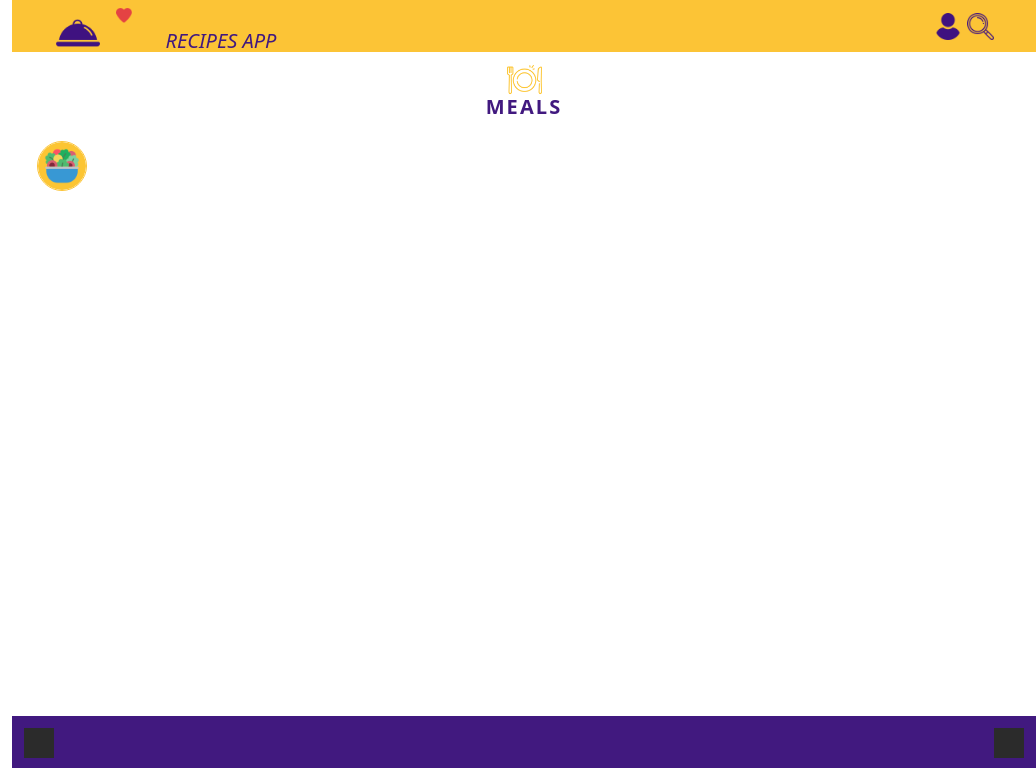
it: Testes relacionados ao SearchBar › Verifica se o botão não esta habilitado caso não preencha um dos campos
Click the button with test id "search-top-btn". click: x=981, y=26
box: [961,11,1000,40]
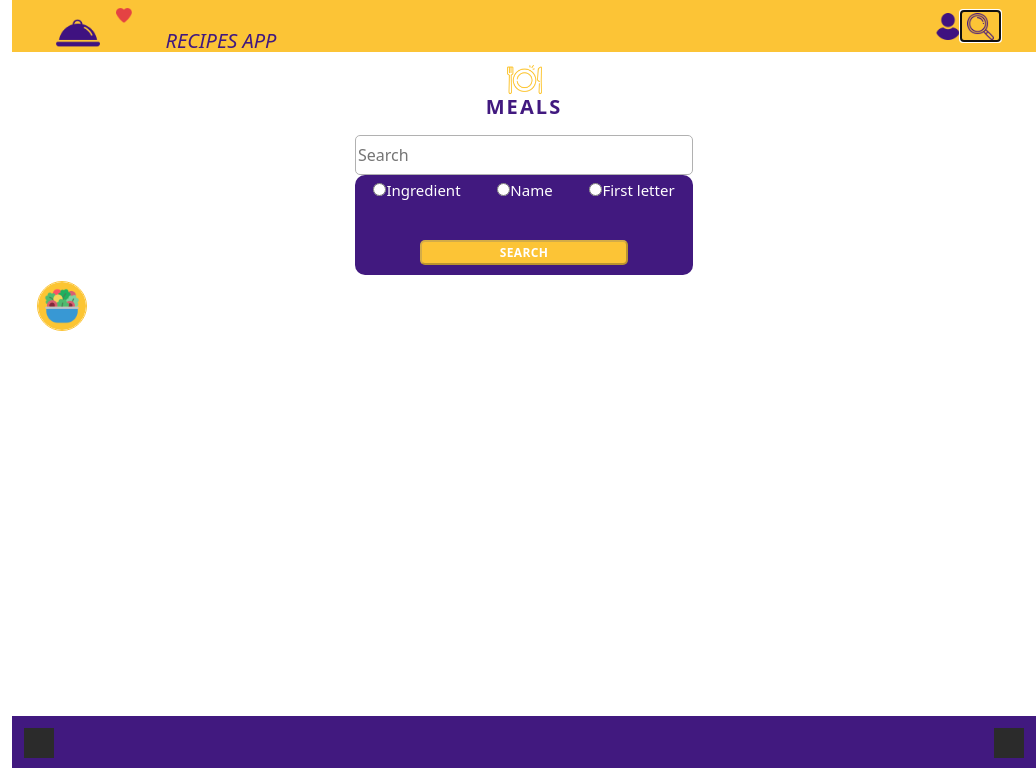
Expected: the button with test id "exec-search-btn" is disabled, [420,240,628,265]
Click the radio button with test id "first-letter-search-radio". click: x=596, y=190
box: [589,183,602,196]
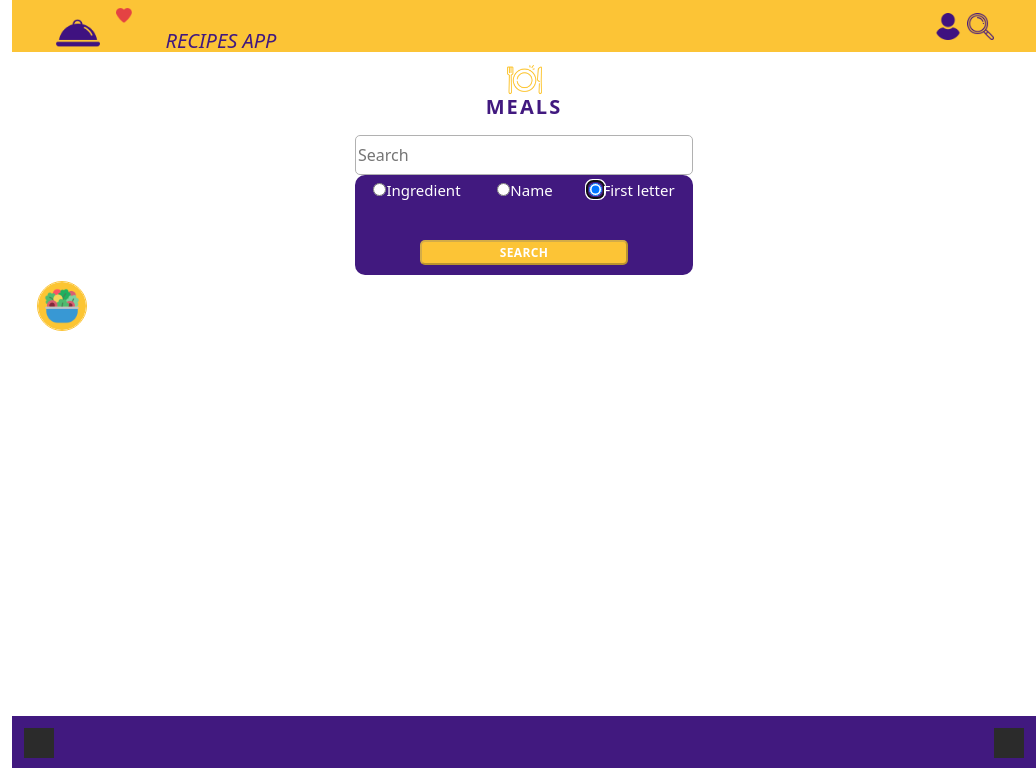
Expected: the button with test id "exec-search-btn" is disabled, [420,240,628,265]
Type "a" into the field with test id "search-input". click: x=524, y=155
box: [355,135,693,175]
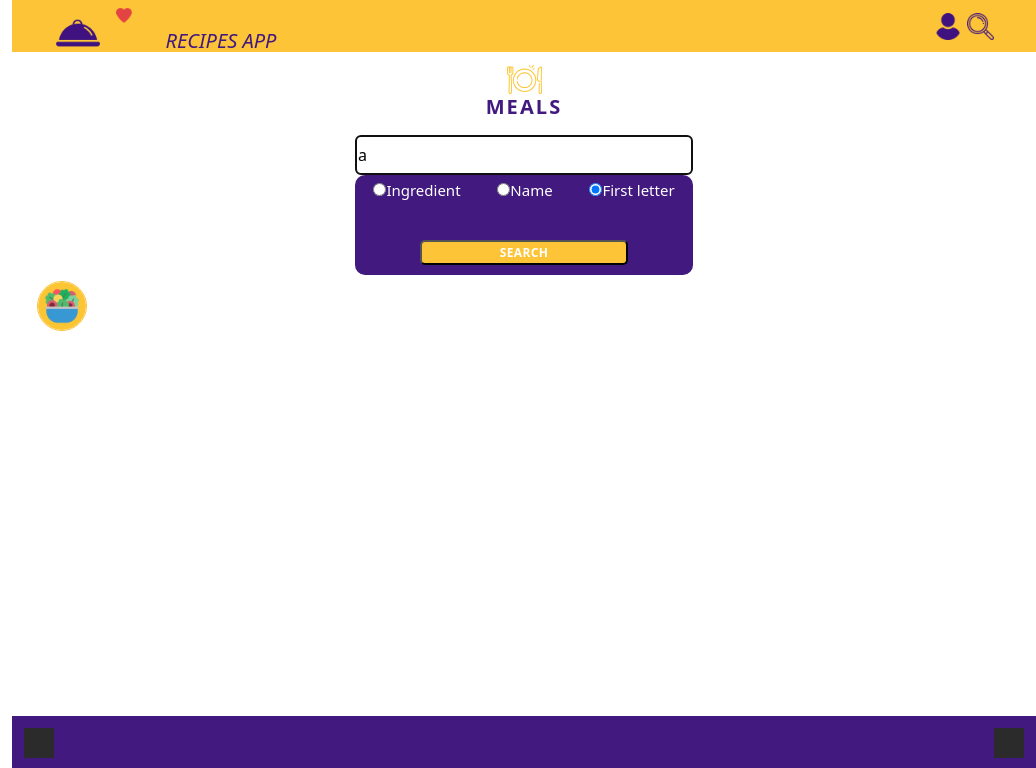
Expected: the button with test id "exec-search-btn" is enabled, [420,240,628,265]
